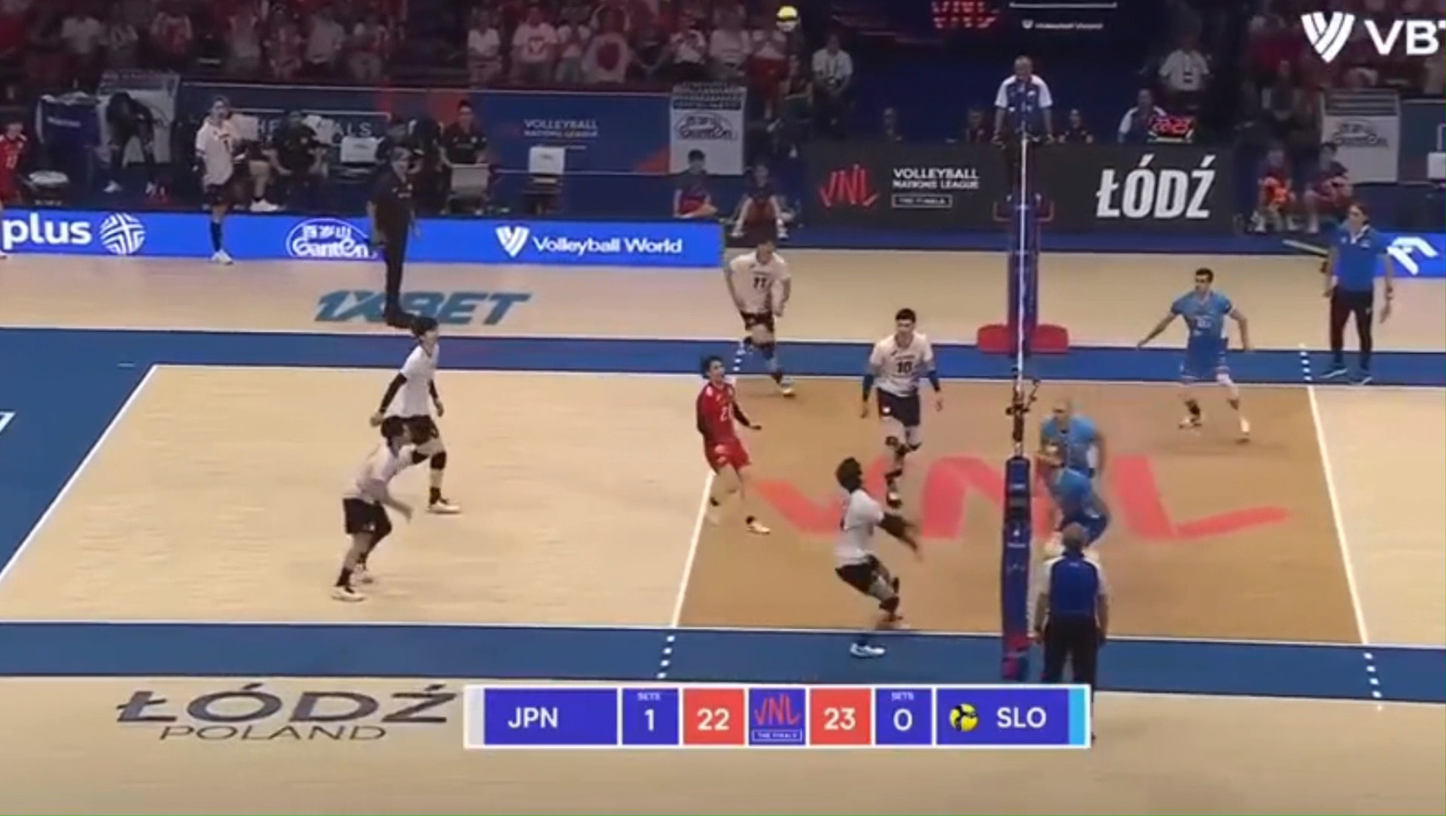ball: (775, 5, 799, 33)
player: (1138, 267, 1250, 440), (1040, 443, 1109, 549), (1040, 398, 1108, 478)
player 1: (332, 416, 427, 599), (373, 316, 459, 514), (833, 457, 917, 657), (862, 308, 941, 507), (695, 357, 770, 534), (725, 227, 793, 396)
referee: (1322, 202, 1393, 382), (1034, 524, 1108, 694), (995, 56, 1054, 222), (368, 147, 415, 327)
